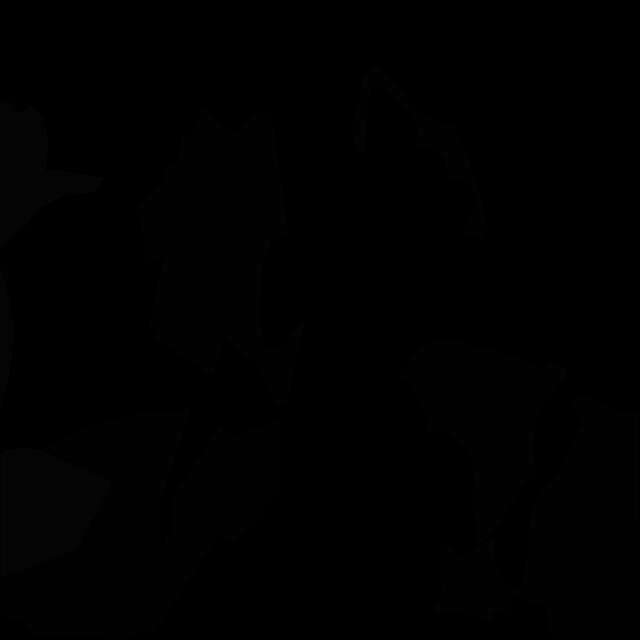cardboard: (0, 409, 281, 639), (135, 107, 306, 406), (433, 396, 640, 640), (398, 338, 567, 547), (351, 65, 488, 240), (148, 259, 225, 377)
soft_plastic: (0, 99, 113, 577)
